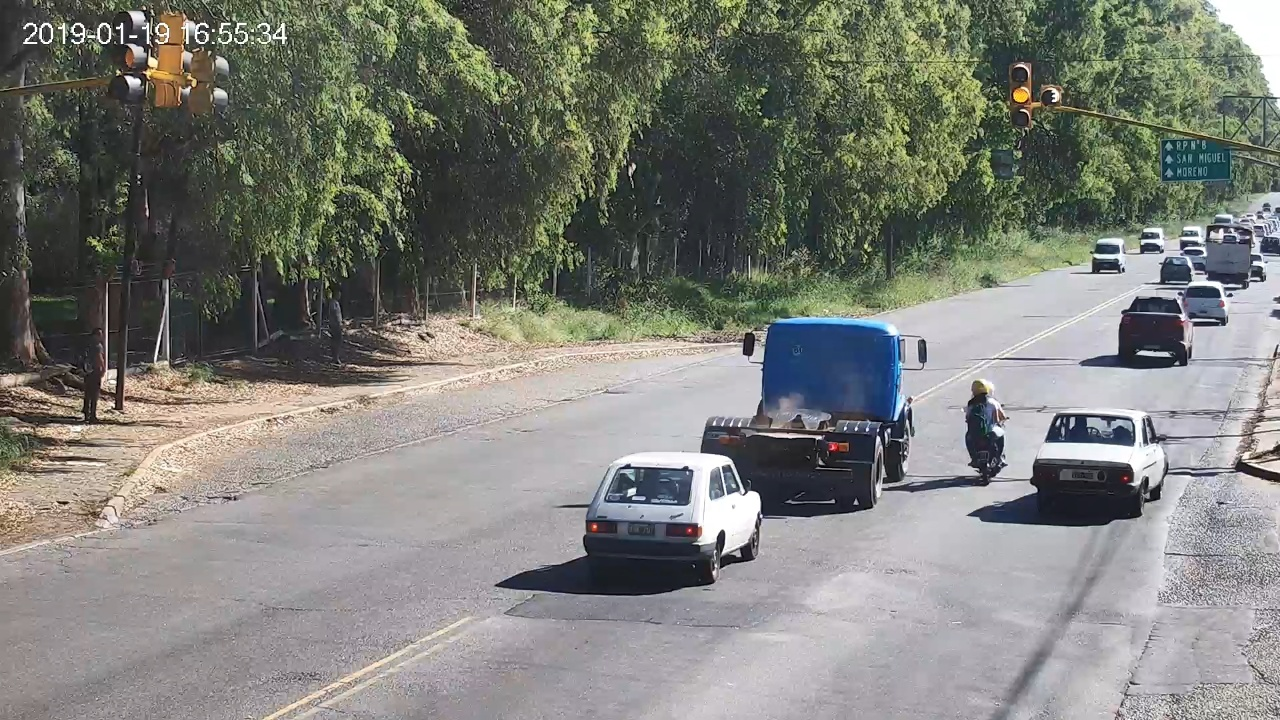car: (584, 452, 763, 580), (1030, 408, 1168, 516), (1119, 290, 1196, 366)
motorcycle: (962, 398, 1010, 484)
traffic light: (1009, 62, 1031, 127)
truck: (701, 321, 927, 510)
